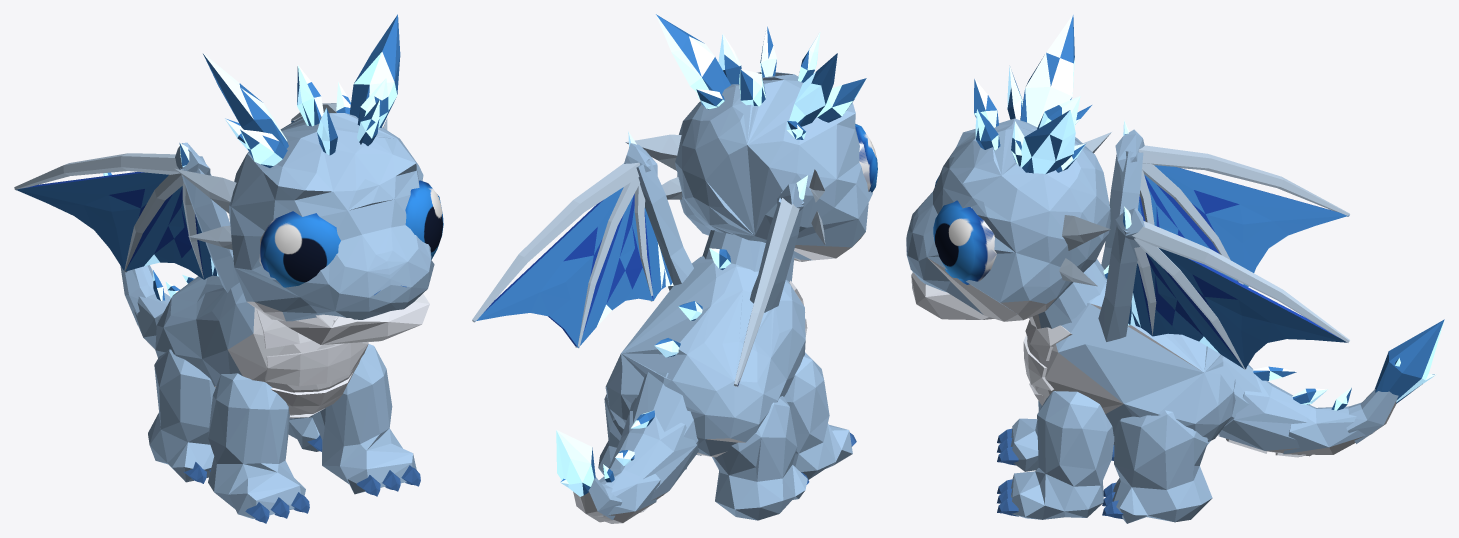
File: frost_baby.glb
3 views of the same model, side by side, from view 1: azimuth 30°, elevation 25°; view 2: azimuth 150°, elevation 25°; view 3: azimuth 270°, elevation 25° (orthographic). The views are drawn at different scales.
Visible parts, largest first — view 1: head, body, wing_R_tip, leg_FR, leg_FL, leg_BR, jaw, wing_R, tail_3, tail_4, leg_BL; view 2: head, body, wing_L_tip, leg_BR, leg_FR, tail_2, wing_L, wing_R_tip, tail_4, tail_1, tail_3, neck (+2 smaller); view 3: head, body, wing_L_tip, wing_R_tip, leg_FL, leg_BL, tail_2, tail_4, wing_L, tail_3, neck, wing_R (+3 smaller).
Part boxes in pixels (x1,y1,x2,y2): head: (175, 14, 443, 321); body: (155, 275, 368, 418); wing_R_tip: (14, 142, 212, 279); leg_FR: (208, 373, 309, 523); leg_FL: (312, 344, 420, 496); leg_BR: (148, 349, 215, 483); jaw: (278, 294, 429, 344); wing_R: (180, 156, 239, 292); tail_3: (132, 269, 170, 349); tail_4: (103, 172, 154, 325); leg_BL: (288, 415, 322, 451); head: (625, 14, 877, 260); body: (605, 248, 807, 457); wing_L_tip: (472, 131, 661, 348); leg_BR: (712, 396, 809, 520); leg_FR: (784, 352, 856, 479); tail_2: (609, 411, 698, 512); wing_L: (636, 159, 693, 290); wing_R_tip: (734, 175, 807, 386); tail_4: (556, 430, 622, 522); tail_1: (630, 372, 698, 446); tail_3: (595, 464, 660, 523); neck: (702, 230, 794, 281); head: (906, 14, 1111, 321); body: (1023, 265, 1235, 441); wing_L_tip: (1115, 206, 1349, 369); wing_R_tip: (1115, 120, 1349, 286); leg_FL: (997, 391, 1114, 519); leg_BL: (1102, 410, 1212, 523); tail_2: (1218, 374, 1327, 457); tail_4: (1346, 319, 1444, 443); wing_L: (1098, 225, 1140, 341); tail_3: (1282, 387, 1374, 454); neck: (1029, 259, 1106, 328); wing_R: (1101, 151, 1143, 269).
Size of the model in its own units: 2.21 by 3.42 by 3.93.
9 materials, 1 textured.
